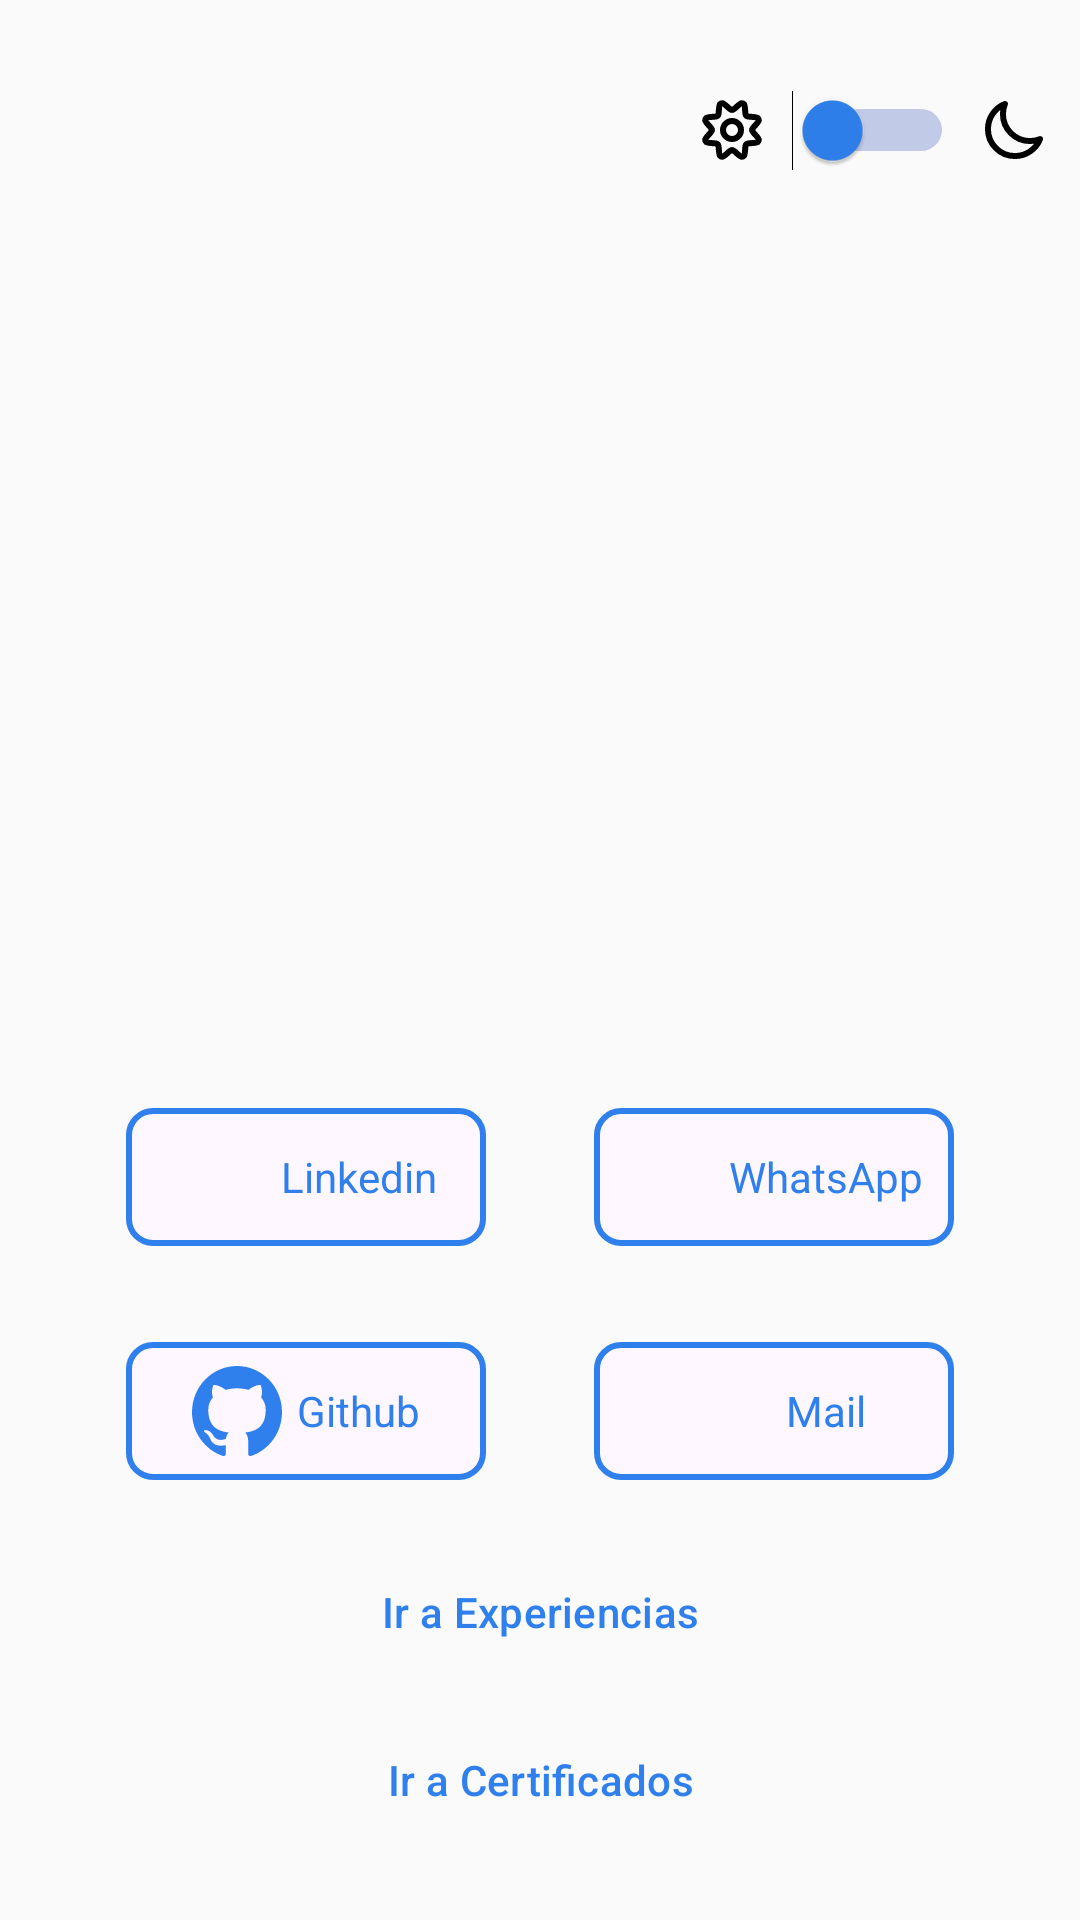

Where to tap for icons on this 1080w x 1920h app screen, as (x,y):
moon: (1014,130)
